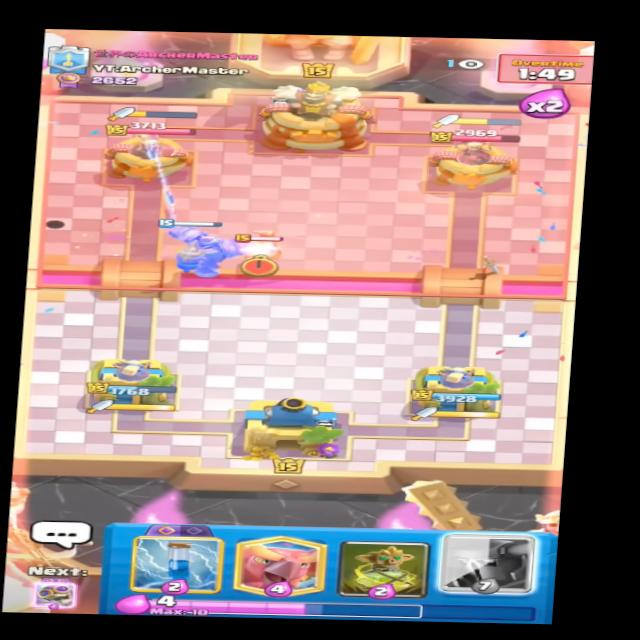knight: (226, 230, 295, 271)
